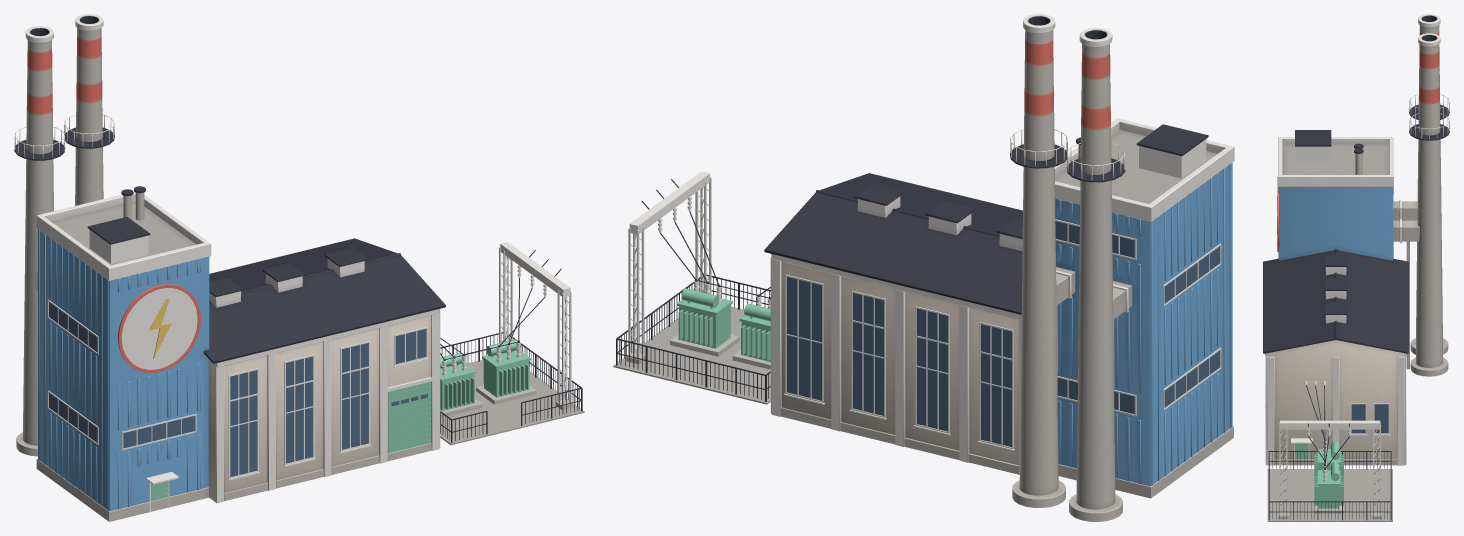
File: power-plant-grab3d.glb
3 views of the same model, side by side, from view 1: azimuth 30°, elevation 25°; view 2: azimuth 150°, elevation 25°; view 3: azimuth 270°, elevation 25° (orthographic). The views are drawn at different scales.
Parts seen in each view (by area): view 1: power-plant_body, power-plant_windows, power-plant_switchyard, power-plant_bolt_emblem; view 2: power-plant_body, power-plant_windows, power-plant_switchyard; view 3: power-plant_body, power-plant_switchyard, power-plant_windows.
Part boxes in pixels (box(x1,y1,x2,y2)): power-plant_body: box(14, 14, 445, 521); power-plant_windows: box(47, 186, 435, 512); power-plant_switchyard: box(440, 242, 584, 445); power-plant_bolt_emblem: box(118, 284, 200, 372); power-plant_body: box(764, 14, 1234, 521); power-plant_windows: box(783, 124, 1221, 450); power-plant_switchyard: box(613, 171, 770, 404); power-plant_body: box(1263, 14, 1449, 465); power-plant_switchyard: box(1267, 381, 1392, 521); power-plant_windows: box(1265, 130, 1393, 465).
Size of the model in its own units: 38.1 by 32 by 16.39.
Materials: 14 (1 with a texture image).
